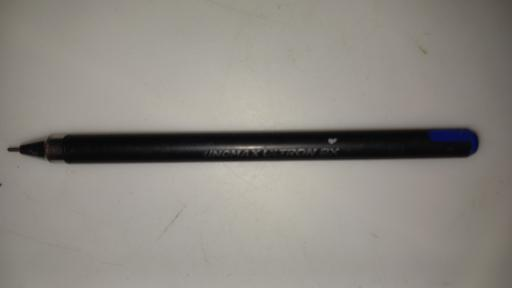pen: (5, 130, 479, 161)
